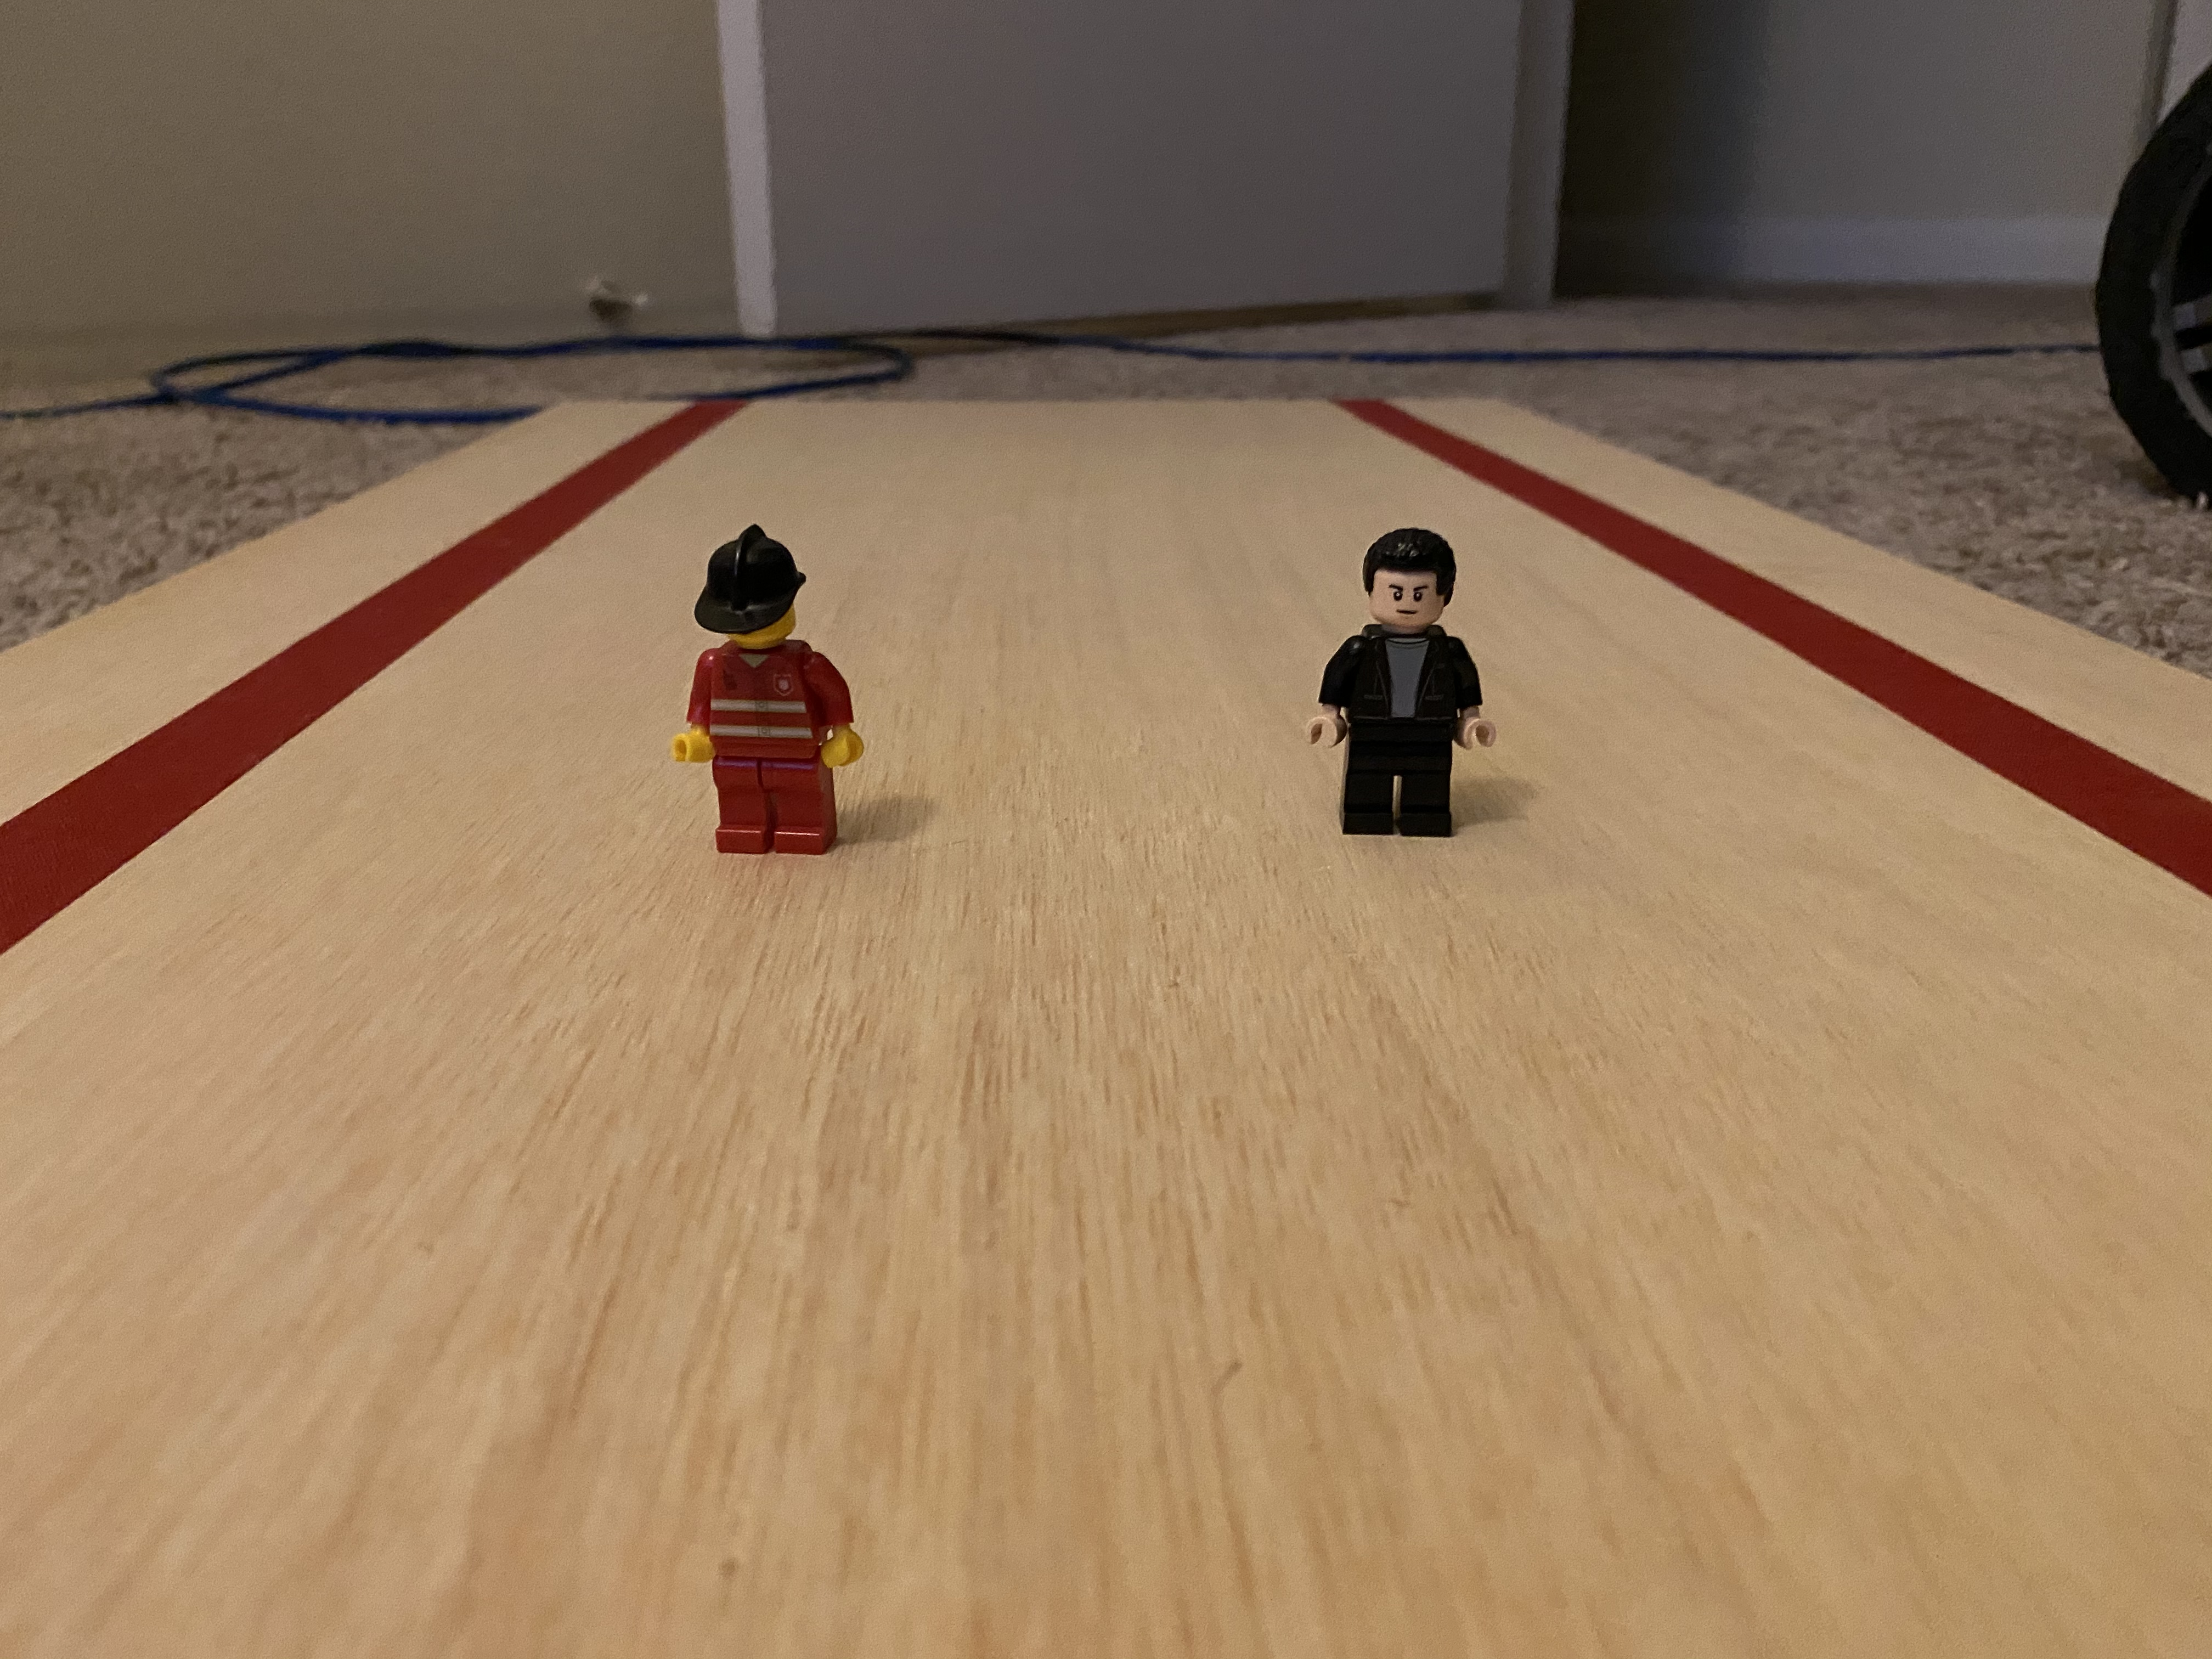Person: (1266, 514, 1536, 857), (644, 514, 896, 866)
